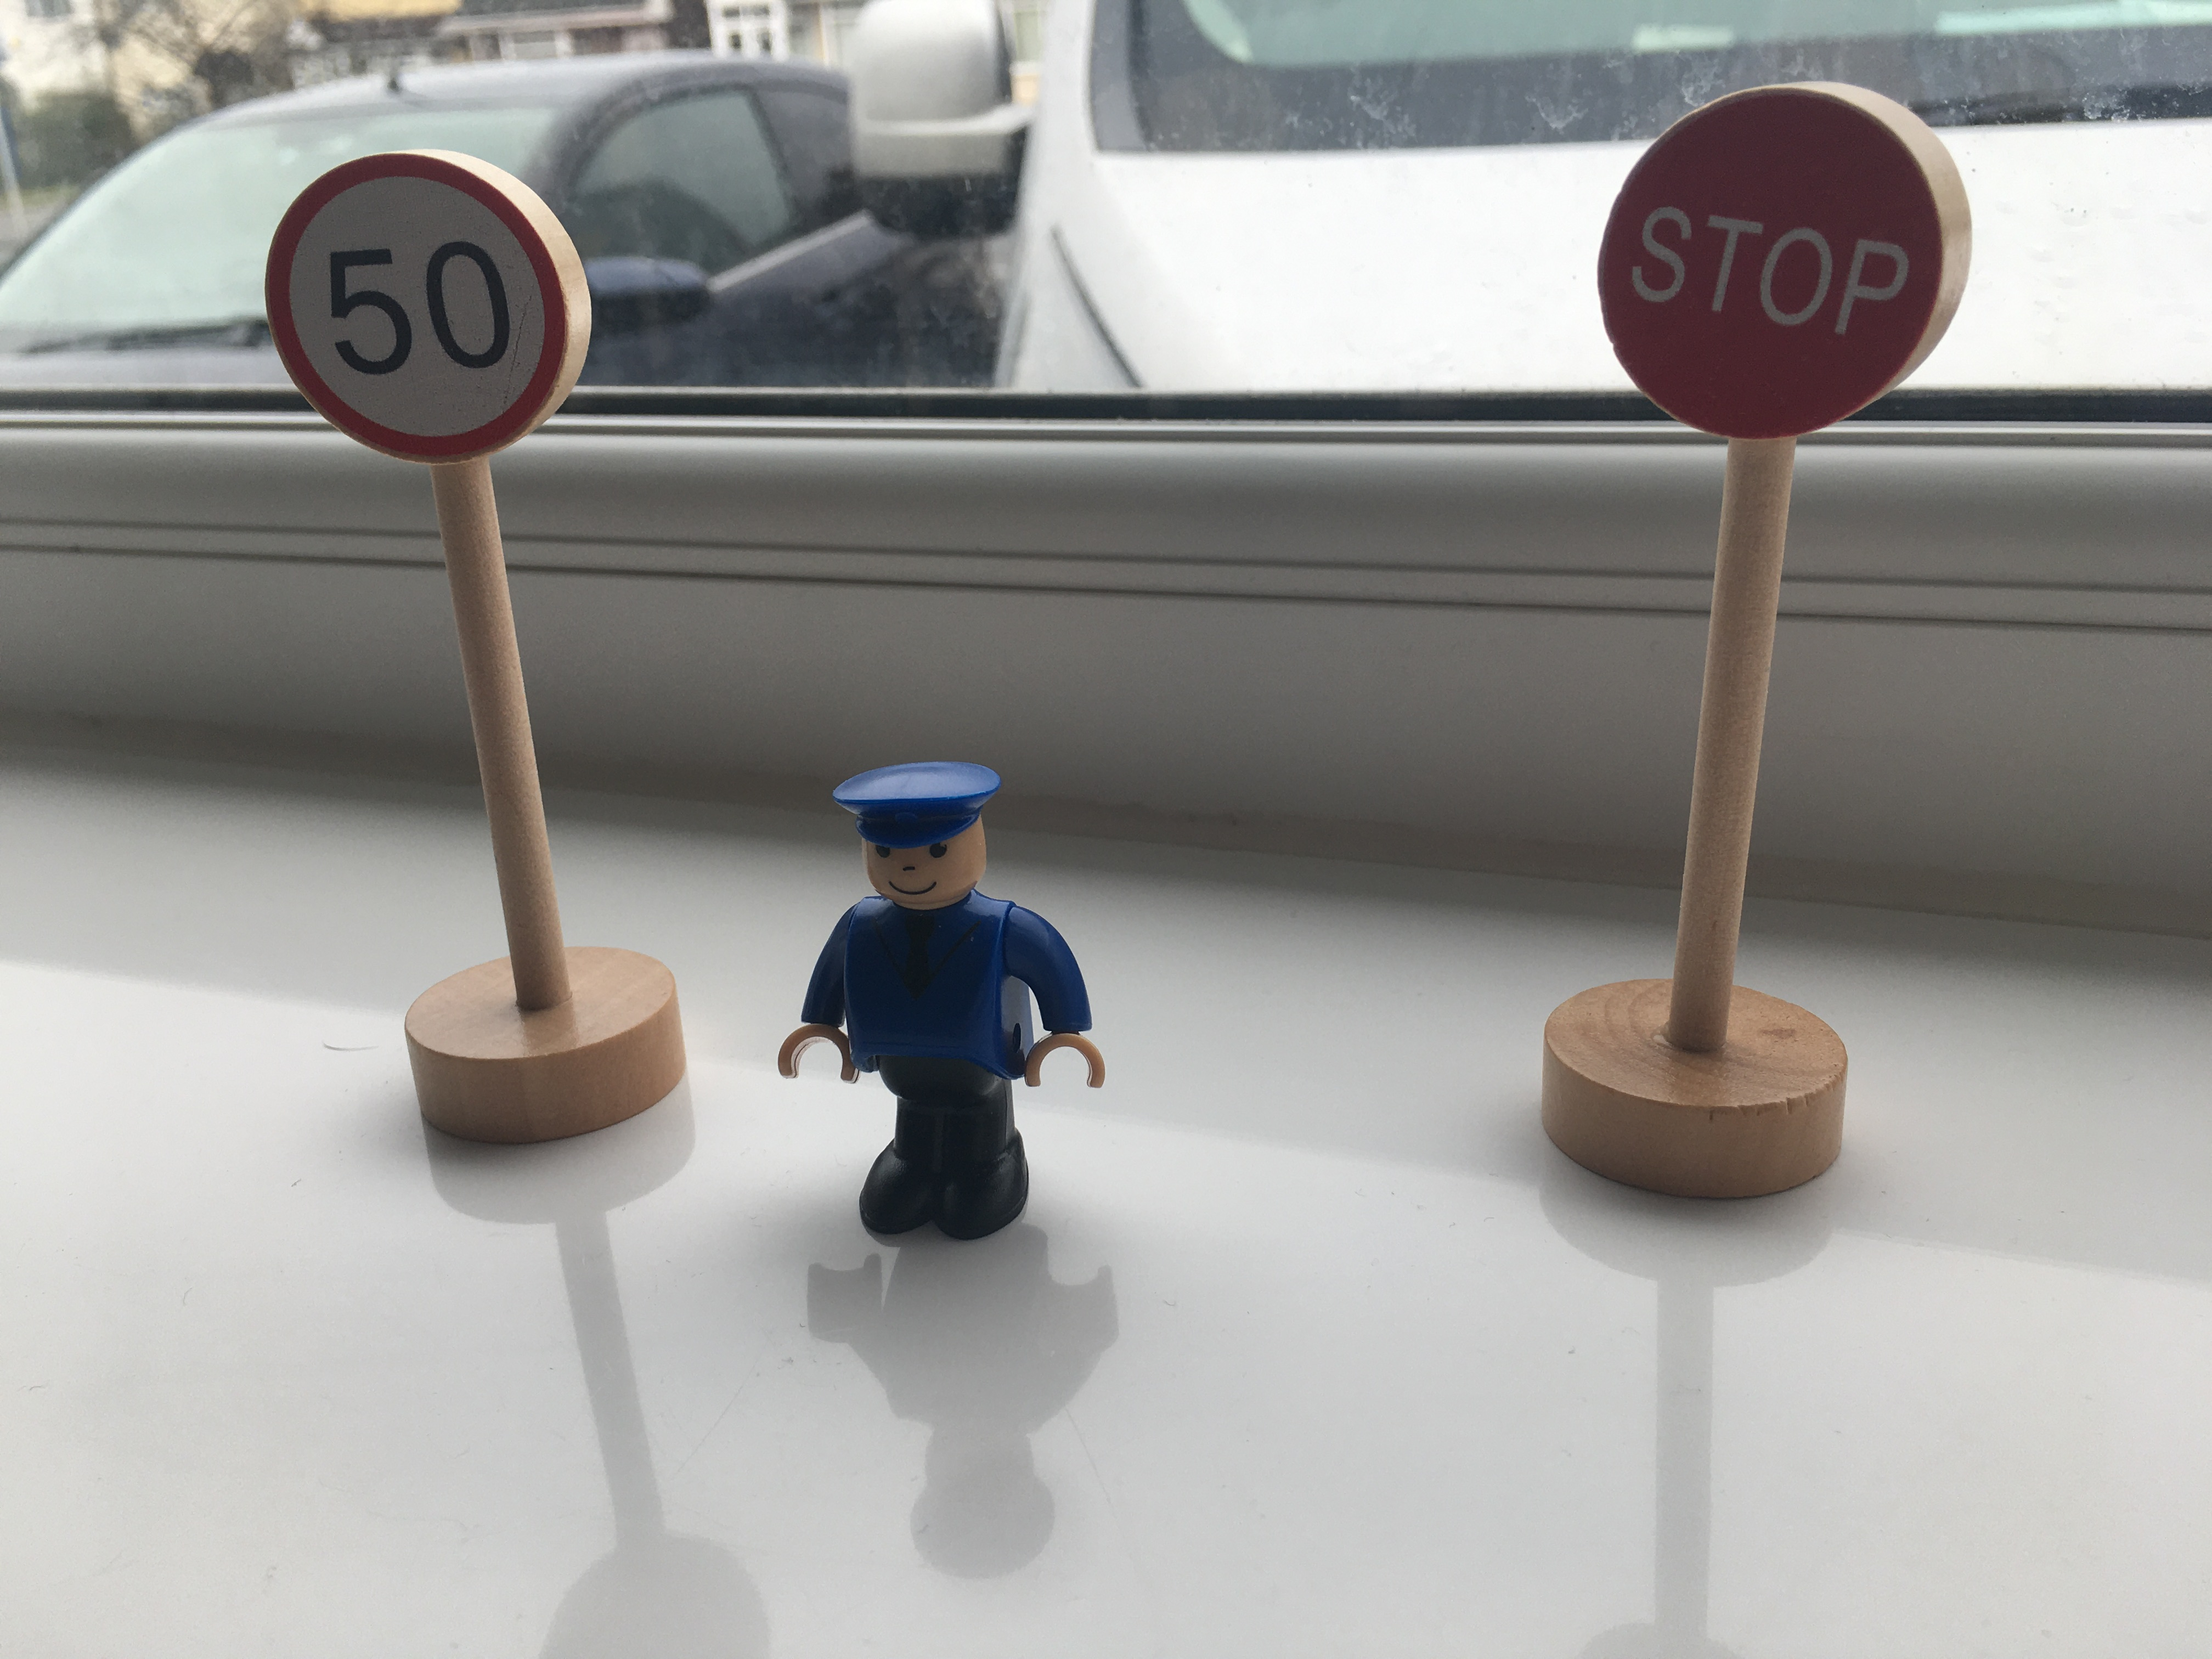Traffic_Sign_50: (237, 156, 609, 471)
Traffic_Sign_Stop: (1564, 91, 2003, 437)
person: (764, 742, 1122, 1232)
